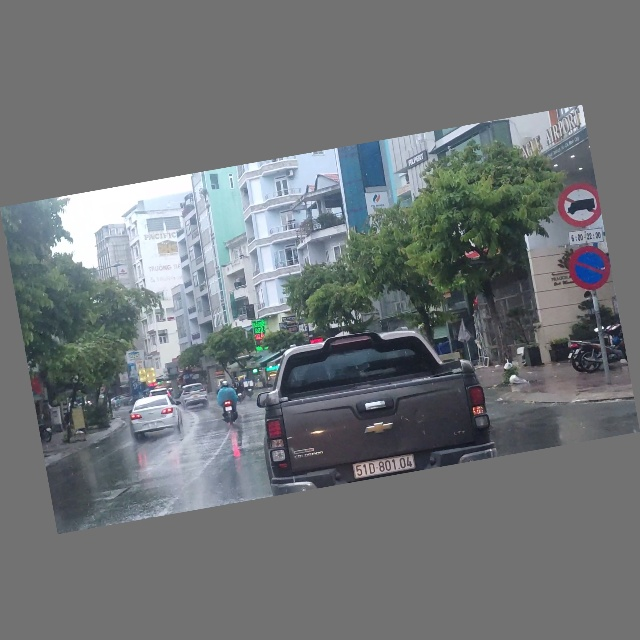P.106a*Xe tai: (554, 180, 603, 232)
P.131a: (565, 243, 613, 294)
